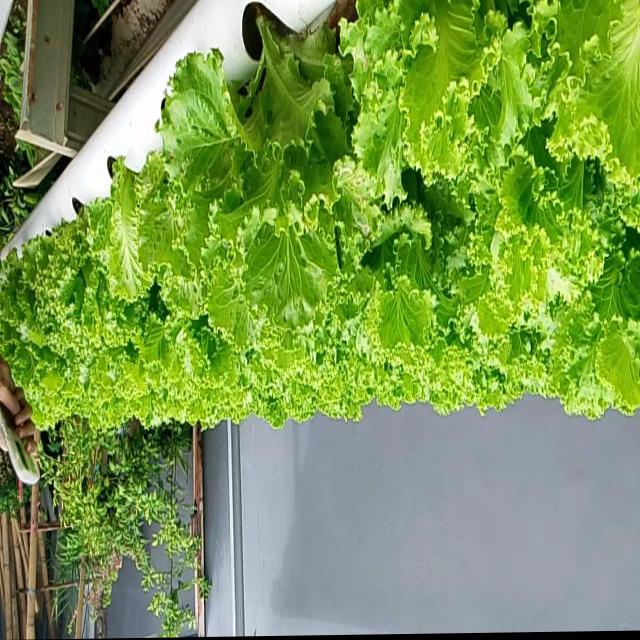Mature: (0, 0, 640, 428), (165, 16, 357, 311), (4, 169, 146, 383)
